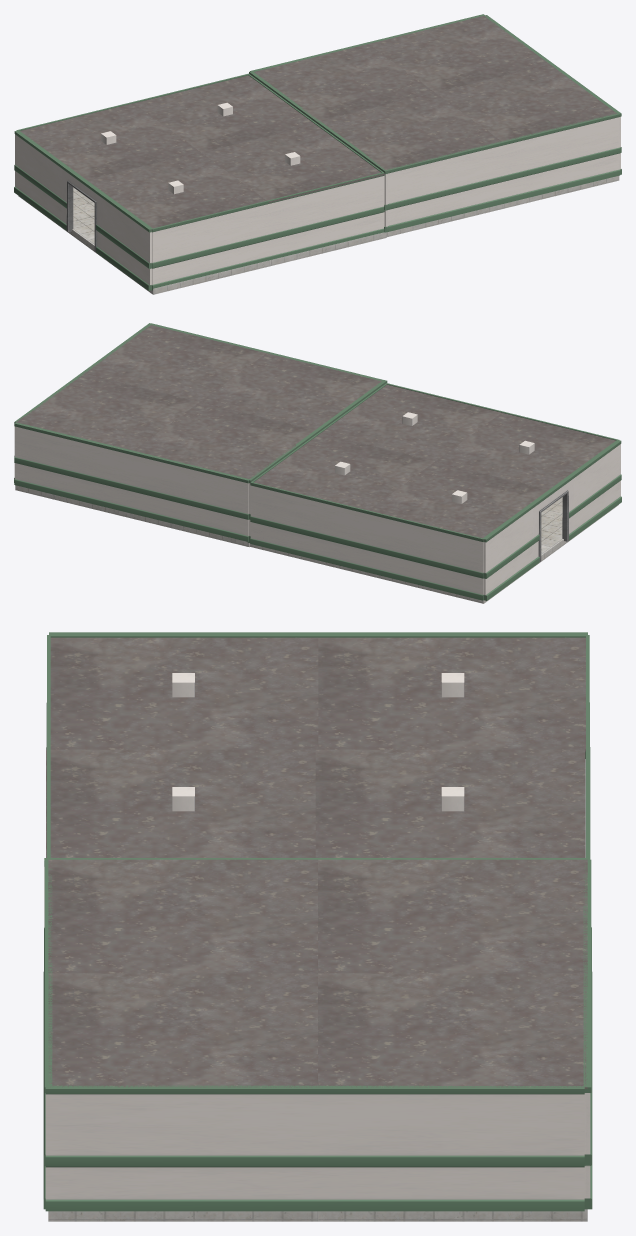
File: SM_TitleRoom.gltf
3 views of the same model, one above another, from view 1: azimuth 30°, elevation 25°; view 2: azimuth 150°, elevation 25°; view 3: azimuth 270°, elevation 25° (orthographic). The views are drawn at different scales.
Visible parts, largest first — view 1: node0; view 2: node0; view 3: node0.
Boxes of the visible parts, x1,y1,x2,y2 form: node0: [14, 14, 621, 294]; node0: [14, 323, 621, 603]; node0: [43, 632, 592, 1221].
Bounding box in the file's own units: 40.5 × 5.9 × 20.35.
5 materials, 4 textured.
